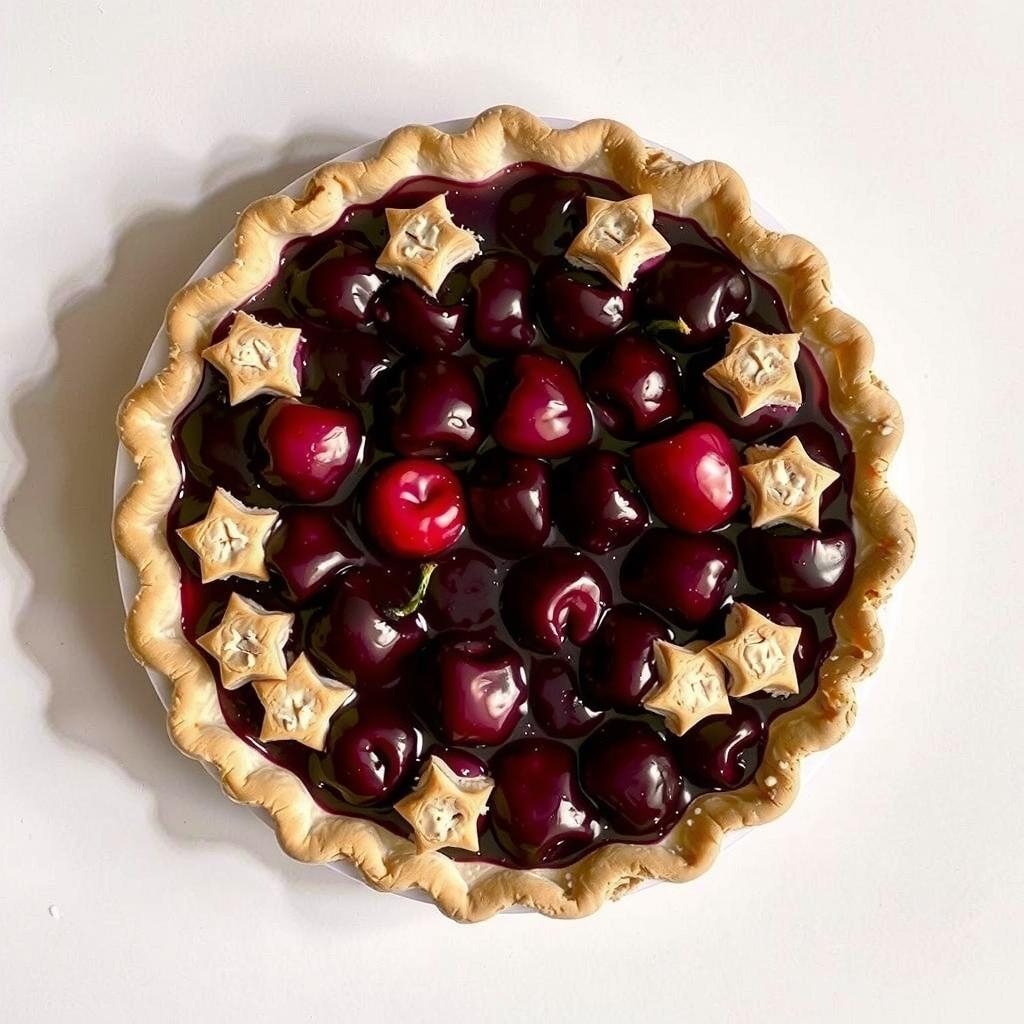pie: (107, 99, 930, 924)
